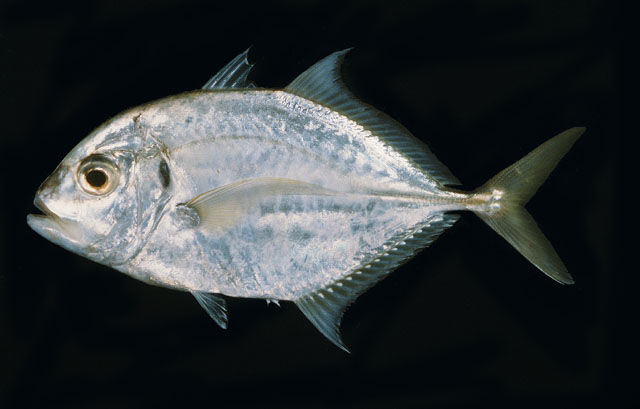fish: (26, 46, 587, 355)
